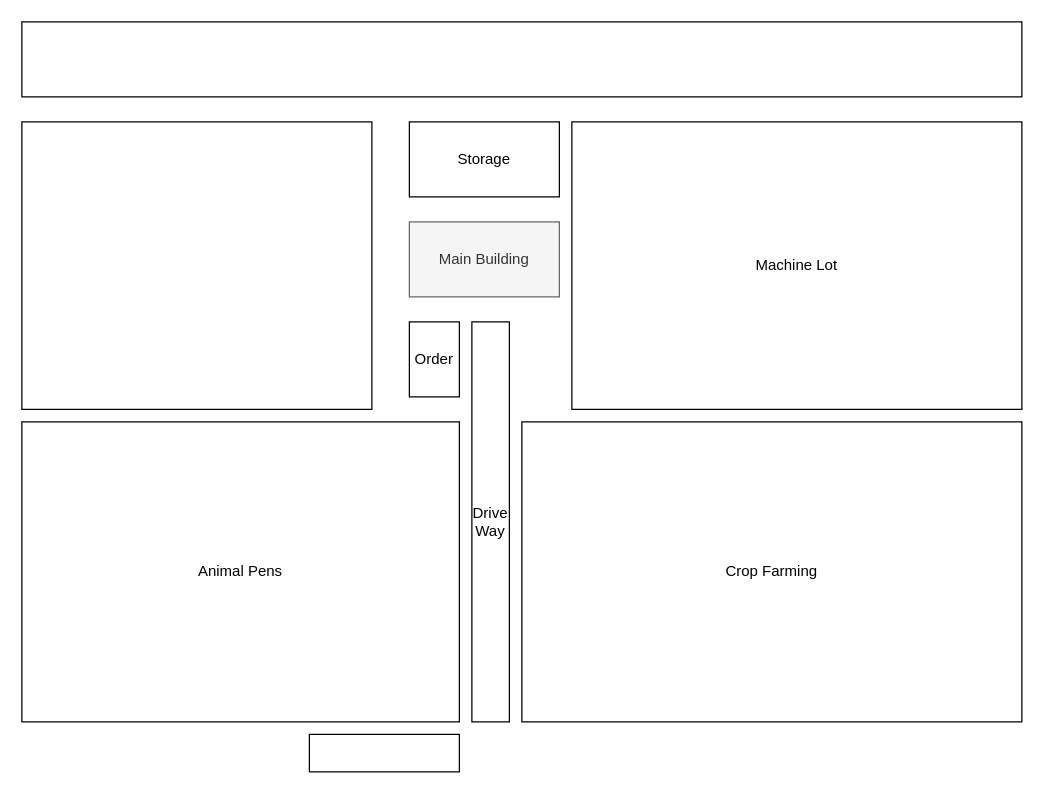
Image size: 1044x794. Some labels were removed from this diagram. The shapes that lost their labels are listed below. From the top down, each one's box as (x1, y1, x2, y2) in pixels, then its label:
(21, 21, 1022, 97): Miscelanious alloted slot
(21, 121, 372, 409): Fruit Farm
(308, 733, 459, 772): Street Market
